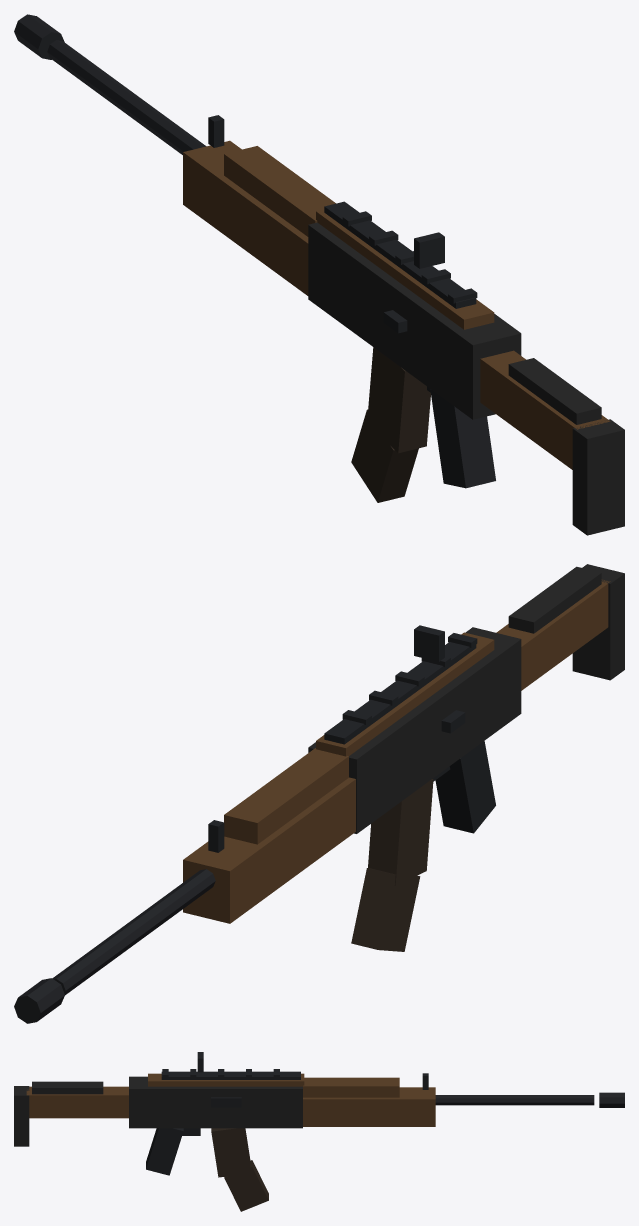
File: weapon_ak47t.glb
3 views of the same model, one above another, from view 1: azimuth 30°, elevation 25°; view 2: azimuth 150°, elevation 25°; view 3: azimuth 270°, elevation 25° (orthographic). The views are drawn at different scales.
Visible parts, largest first — view 1: body, mag; view 2: body, mag; view 3: body, mag.
Part boxes in pixels (x1,y1,x2,y2): body: (14, 14, 624, 535); mag: (351, 347, 430, 502); body: (14, 564, 624, 1023); mag: (351, 779, 433, 951); body: (14, 1052, 624, 1175); mag: (211, 1128, 268, 1211).
Bounding box in the file's own units: 0.074 × 0.3307 × 1.19.
